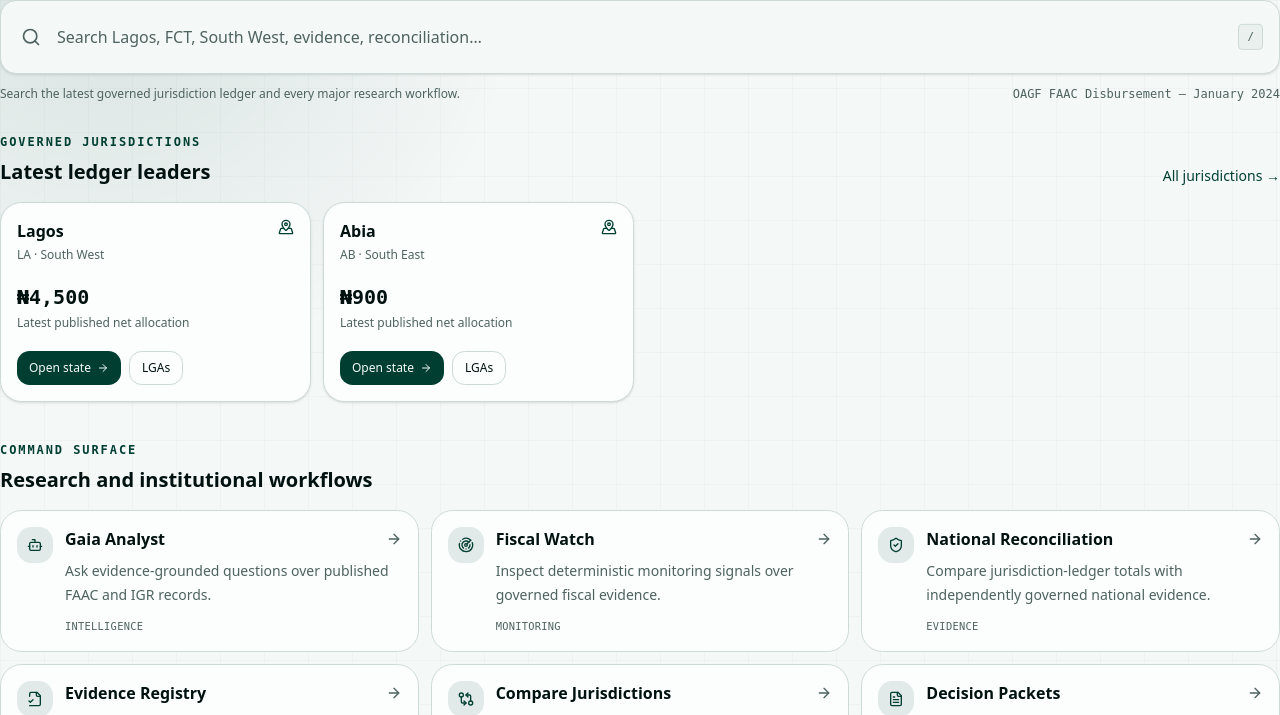
Test case: GaiaTerminalSearch › finds institutional workflows by intent keywords
In the field named "Search Gaia Terminal": (640, 37) [9,9,1271,65], type "reconciliation"
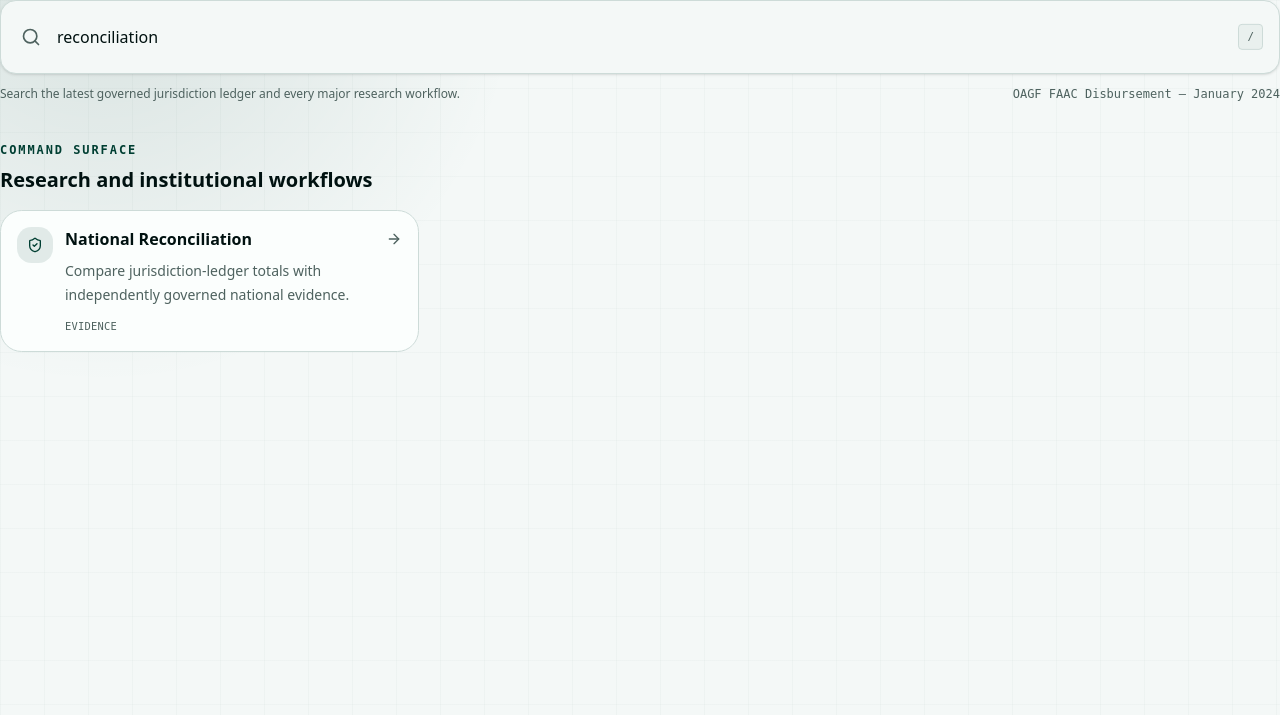
Check: the text "National Reconciliation" is shown, box [65,227,252,251]
Check: the link "Gaia Analyst" is gone
